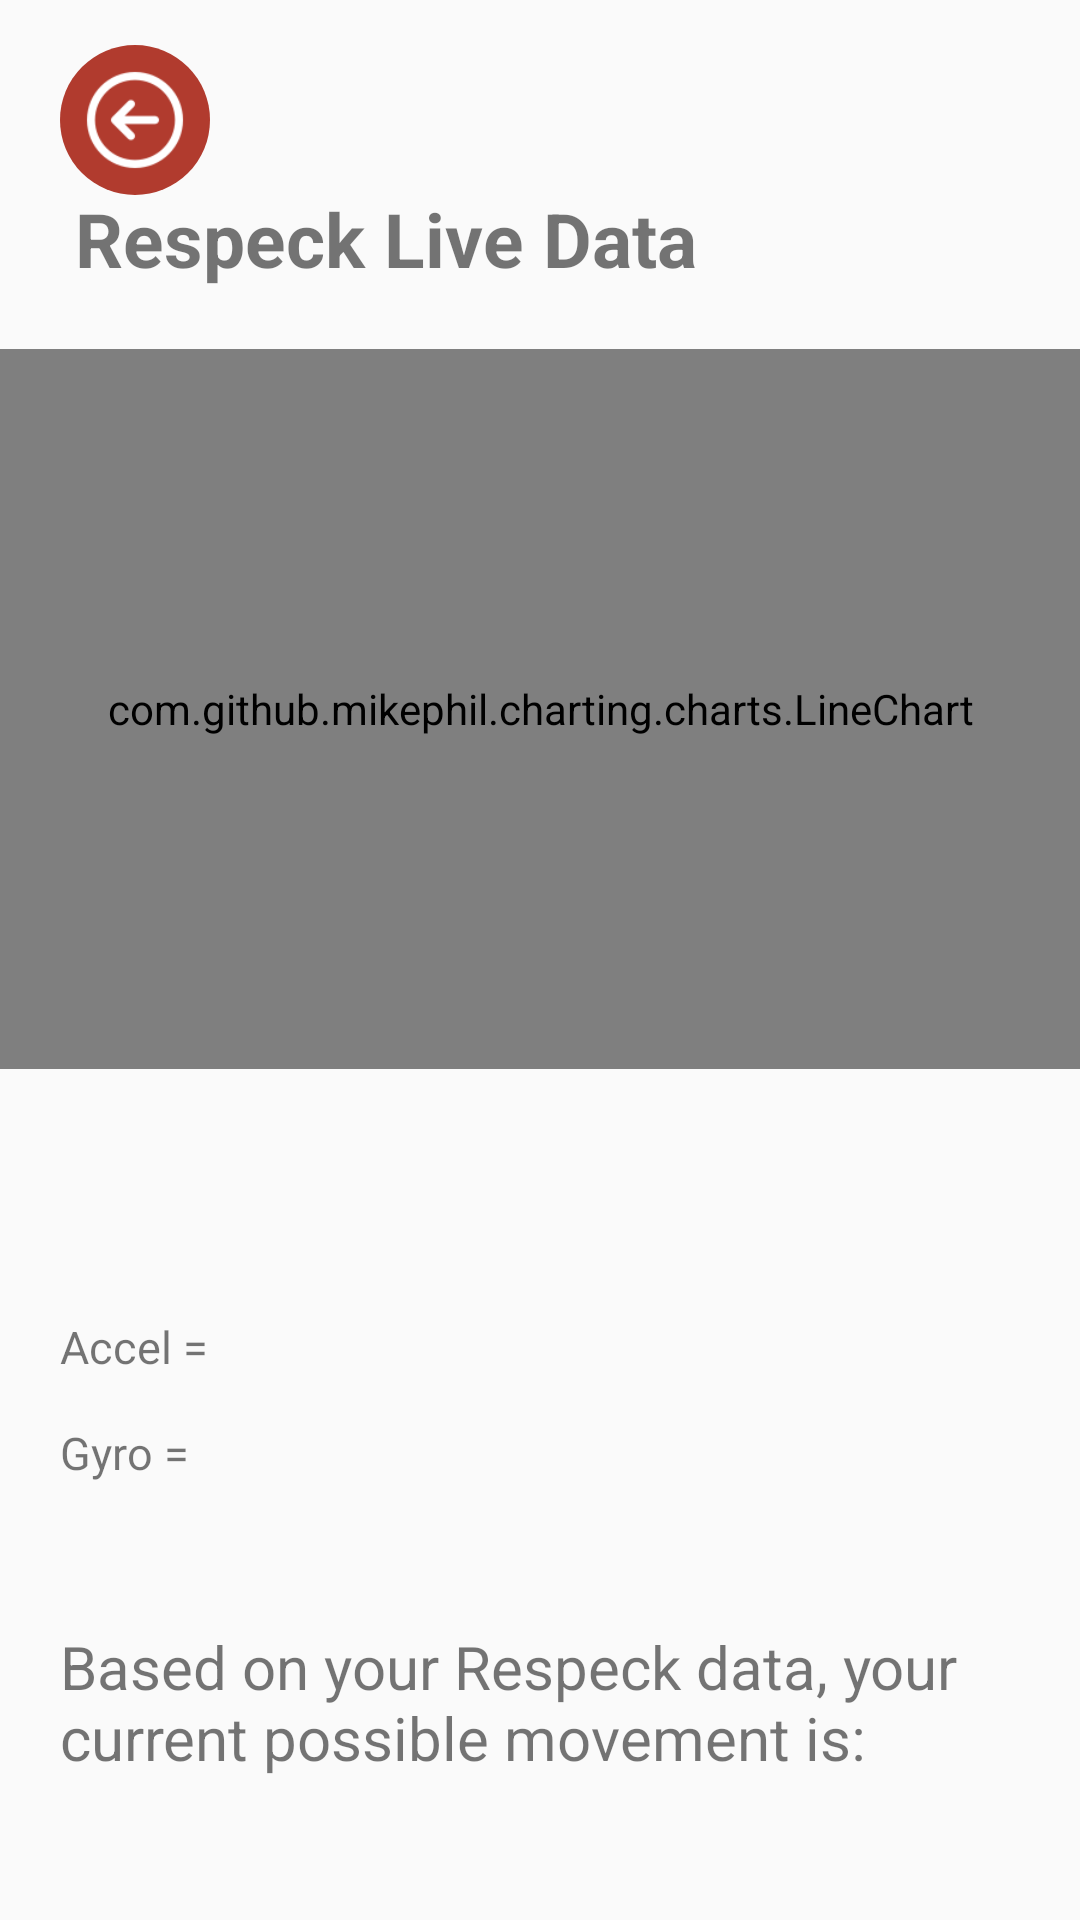

Where icons sit on this 1080*1920 app screen, as (x1, y1, x2, y2):
back: (60, 45, 210, 195)
